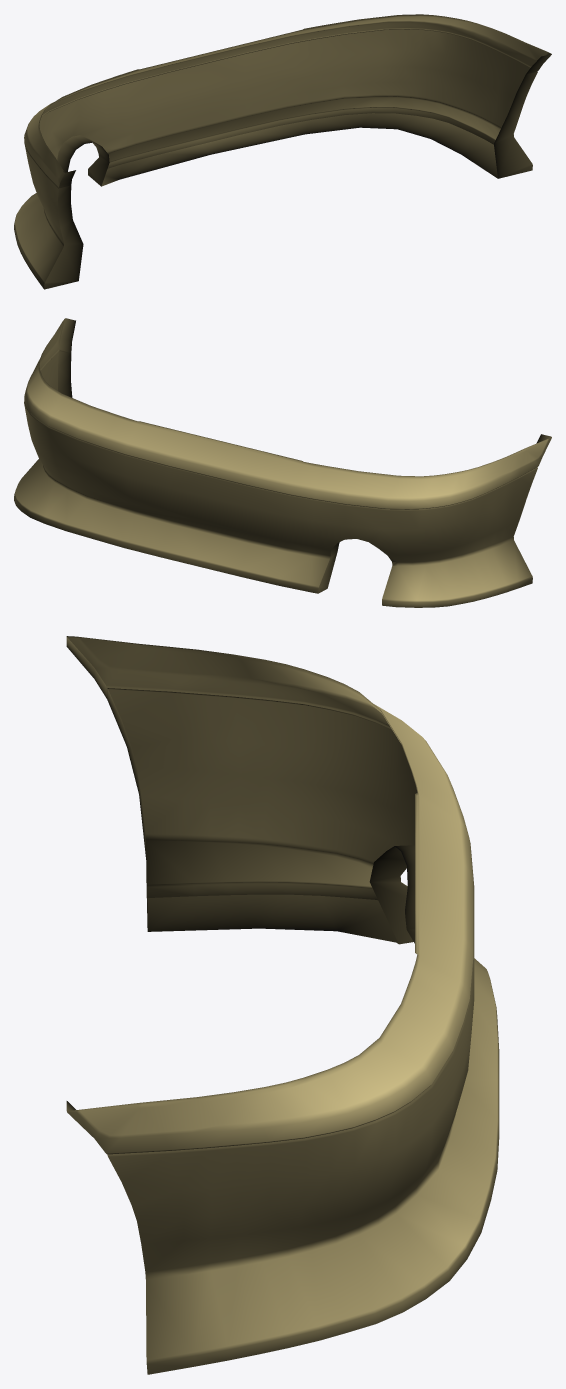
The model's file is MX5_RB04_Duco.fbx.
The picture shows the model from 3 angles, top to bottom: view 1: azimuth 30°, elevation 25°; view 2: azimuth 150°, elevation 25°; view 3: azimuth 270°, elevation 25°; orthographic projection. The views are drawn at different scales.
Visible parts, largest first — view 1: MX5_RB04_Duco; view 2: MX5_RB04_Duco; view 3: MX5_RB04_Duco.
Boxes of the visible parts, x1=… form: MX5_RB04_Duco: x1=14, y1=14, x2=551, y2=289; MX5_RB04_Duco: x1=14, y1=318, x2=551, y2=607; MX5_RB04_Duco: x1=66, y1=636, x2=499, y2=1374.
Bounding box in the file's own units: 157 × 40.32 × 60.12.
